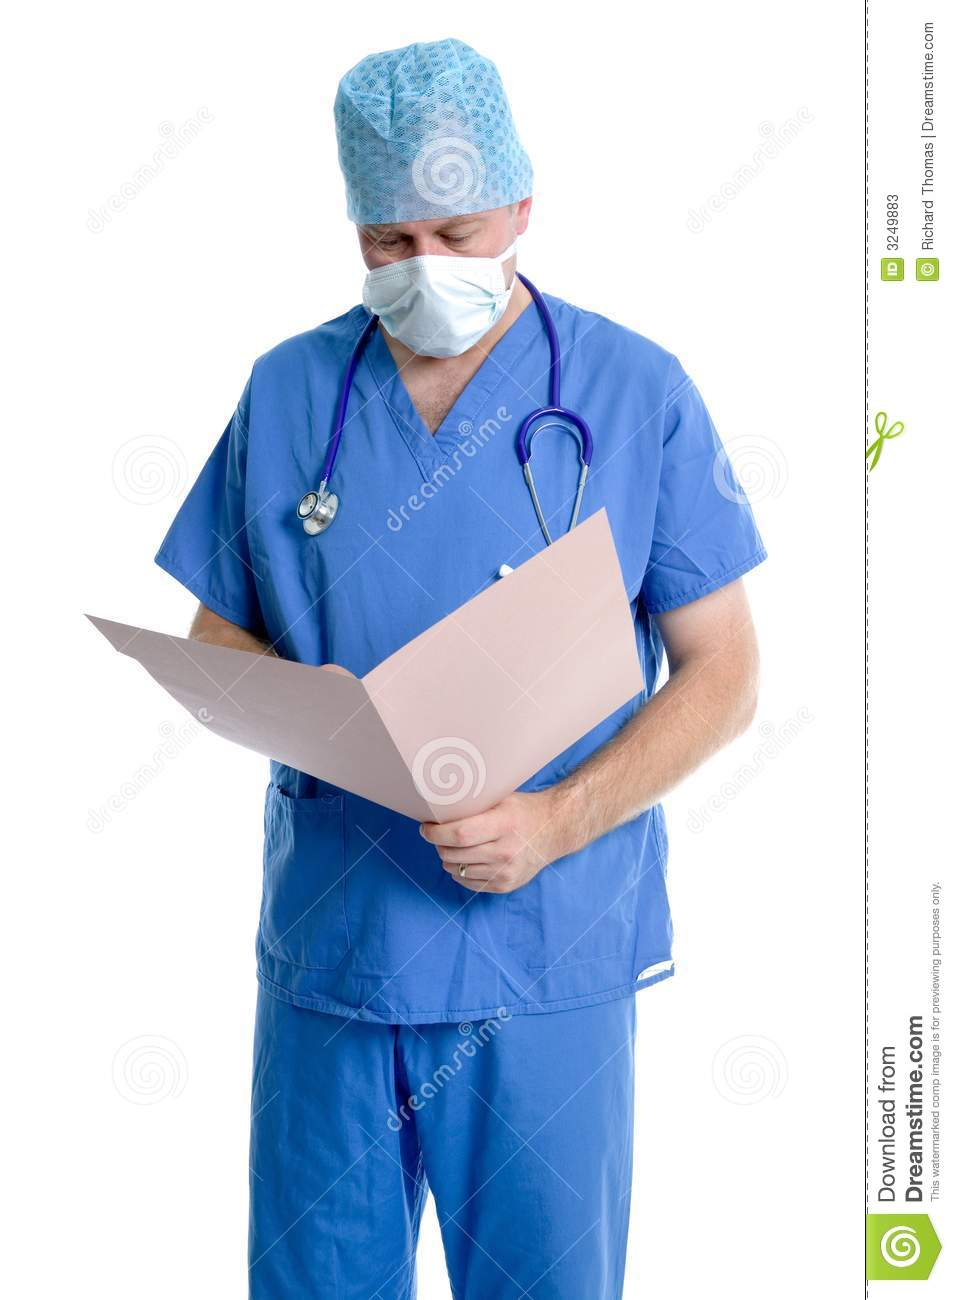mask: (372, 255, 523, 367)
